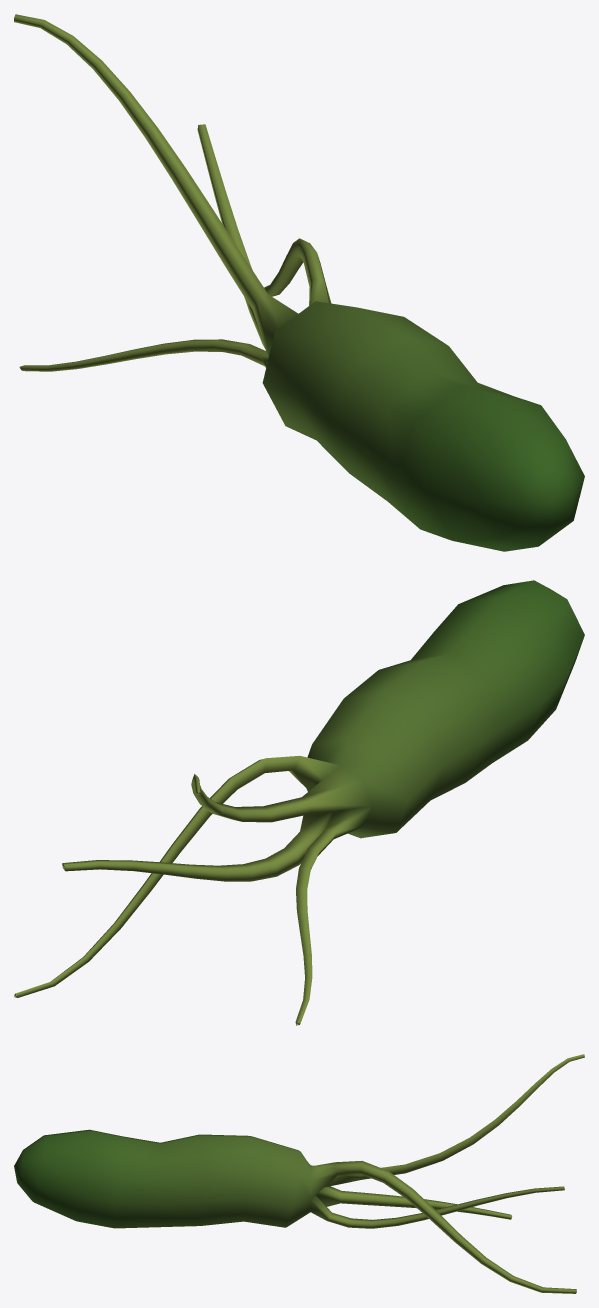
Rendered from microscopic-bacteria-tailed-bacterium_v1.glb.
3 views of the same model, one above another, from view 1: azimuth 30°, elevation 25°; view 2: azimuth 150°, elevation 25°; view 3: azimuth 270°, elevation 25° (orthographic). The views are drawn at different scales.
Visible parts, largest first — view 1: Tailed Bacterium_v1; view 2: Tailed Bacterium_v1; view 3: Tailed Bacterium_v1.
Part boxes in pixels (bbox=[...]): Tailed Bacterium_v1: bbox=[14, 14, 584, 551]; Tailed Bacterium_v1: bbox=[14, 580, 584, 1025]; Tailed Bacterium_v1: bbox=[14, 1054, 584, 1293].
Size of the model in its own units: 0.1326 by 0.1399 by 0.4.
